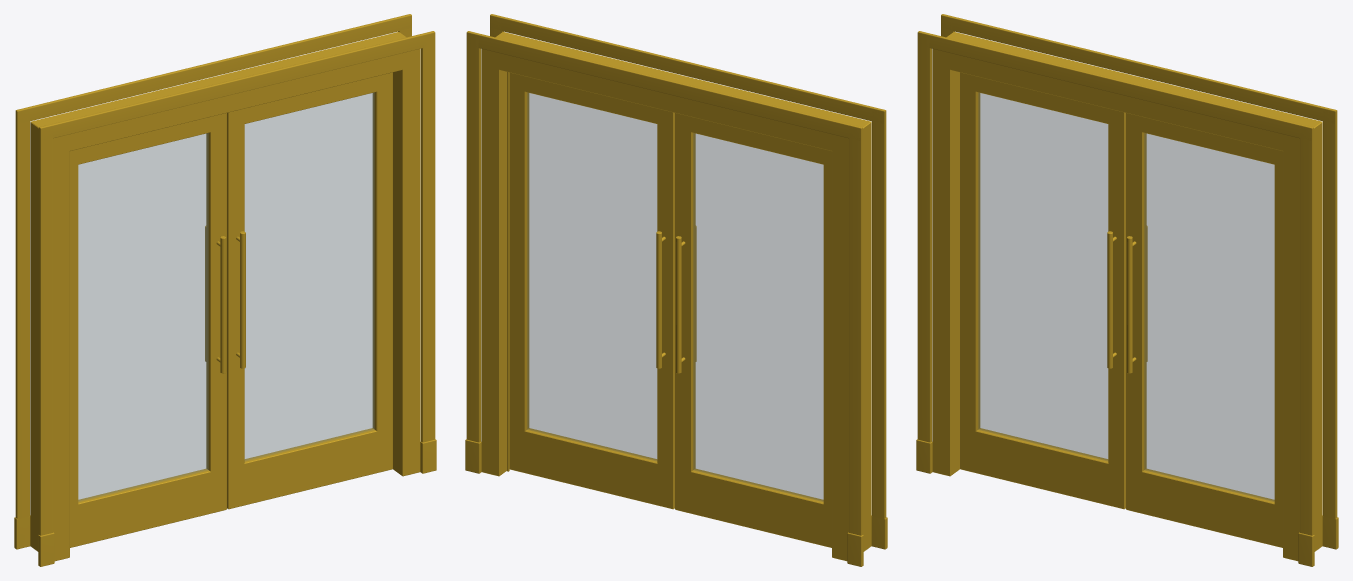
File: prop_door_double_glass_t20.glb
The picture shows the model from 3 angles, left to right: view 1: azimuth 30°, elevation 25°; view 2: azimuth 150°, elevation 25°; view 3: azimuth 330°, elevation 25°; orthographic projection.
Parts seen in each view (by area): view 1: LeafMesh2, LeafMesh, Frame; view 2: LeafMesh2, Frame, LeafMesh; view 3: LeafMesh, LeafMesh2, Frame.
Part boxes in pixels (<box>): LeafMesh2: <box>227,72,392,509</box>; LeafMesh: <box>70,113,226,547</box>; Frame: <box>14,14,436,566</box>; LeafMesh2: <box>509,72,674,509</box>; Frame: <box>465,14,887,566</box>; LeafMesh: <box>675,113,831,547</box>; LeafMesh: <box>960,72,1125,509</box>; LeafMesh2: <box>1126,113,1282,547</box>; Frame: <box>916,14,1338,566</box>.
Size of what is drawn, in the model's own units: 2.15 by 2.27 by 0.248.
